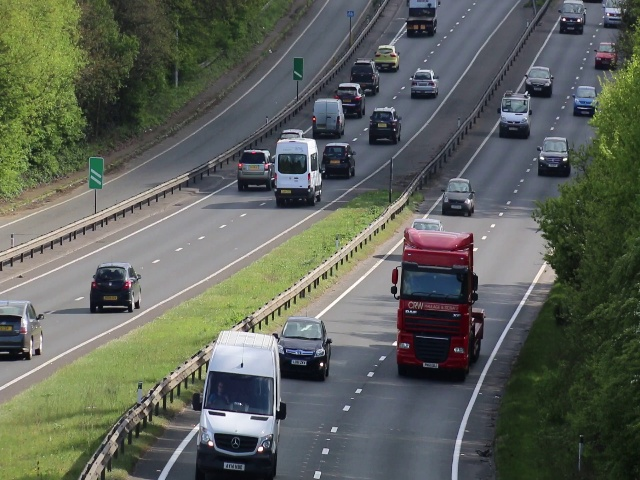car: (388, 247, 481, 382), (189, 353, 286, 480), (283, 316, 330, 381), (276, 142, 318, 205), (90, 263, 141, 312), (1, 300, 42, 360), (496, 94, 532, 138), (537, 136, 572, 176), (443, 175, 474, 217), (402, 68, 440, 101), (235, 152, 271, 186), (309, 101, 346, 134), (367, 108, 399, 144), (336, 83, 367, 116), (409, 1, 436, 36), (525, 65, 554, 97), (559, 1, 583, 36), (327, 143, 353, 175), (573, 82, 596, 115), (594, 38, 617, 69), (375, 45, 399, 72), (350, 59, 377, 79)
